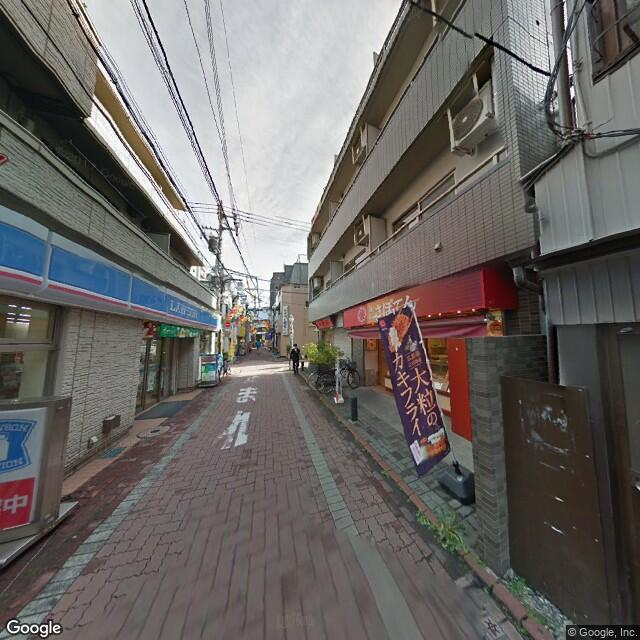lawson: (2, 207, 217, 331), (1, 411, 42, 479)
